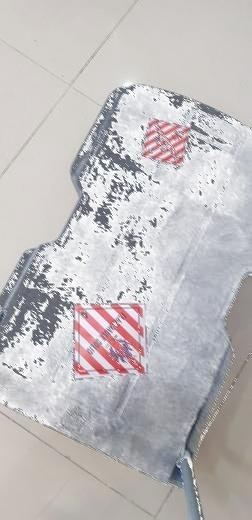flammable-solid: (73, 305, 148, 380), (143, 118, 191, 168)
